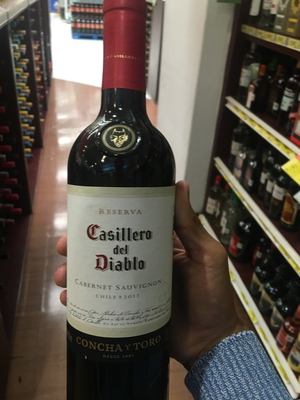casillero del diablo cabernet sauvignon: (64, 13, 180, 400)
